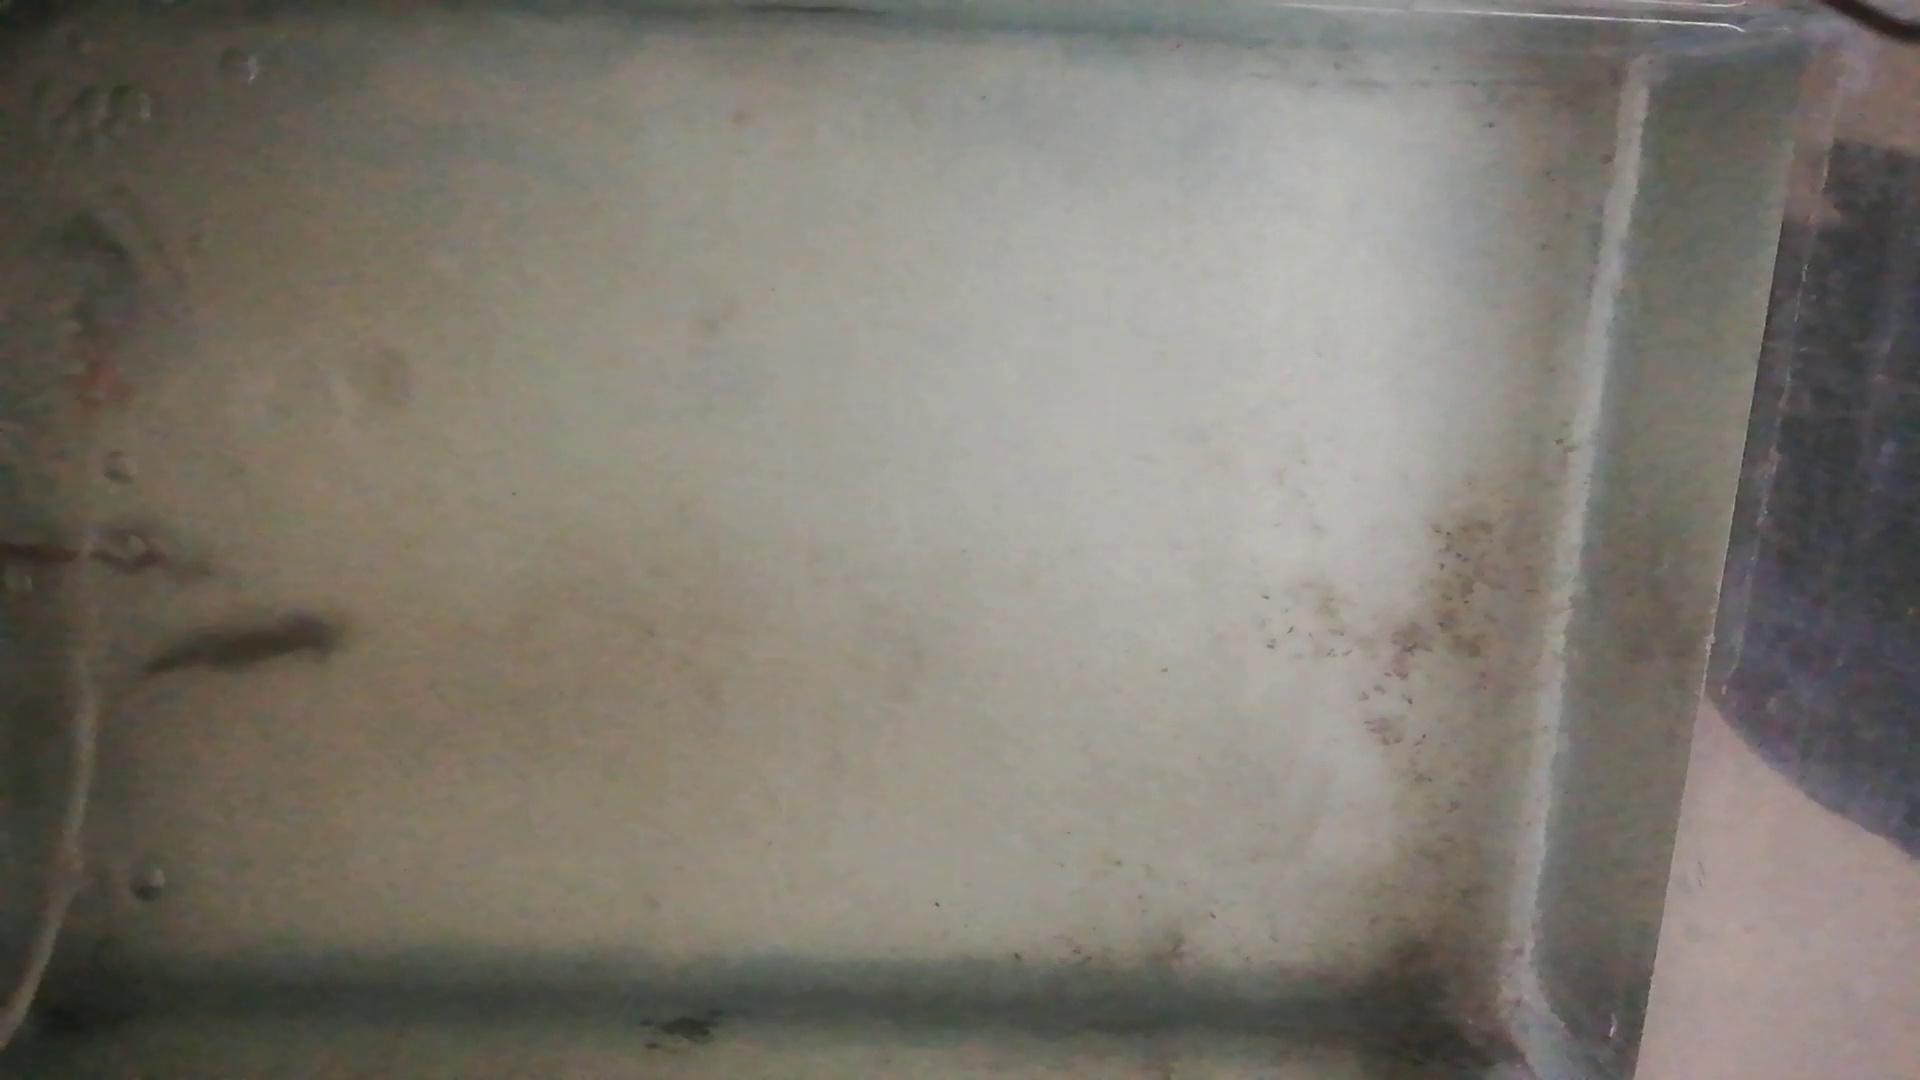fish: (140, 617, 343, 670), (1, 527, 196, 582)
